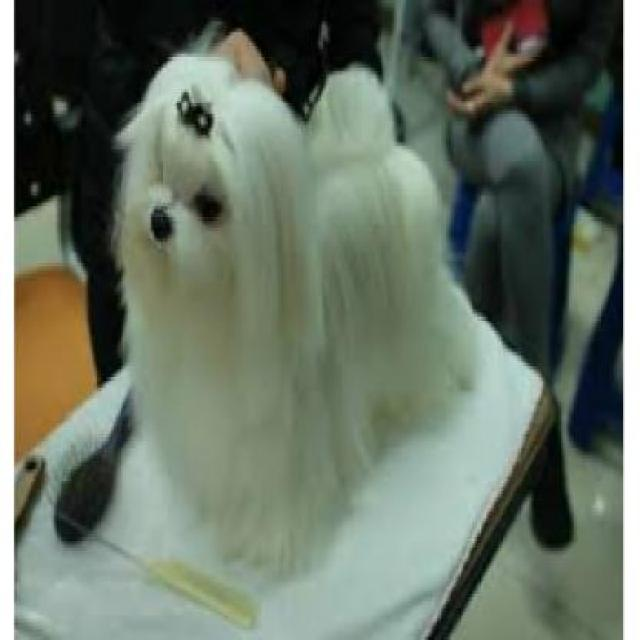Dog: (103, 39, 479, 588)
